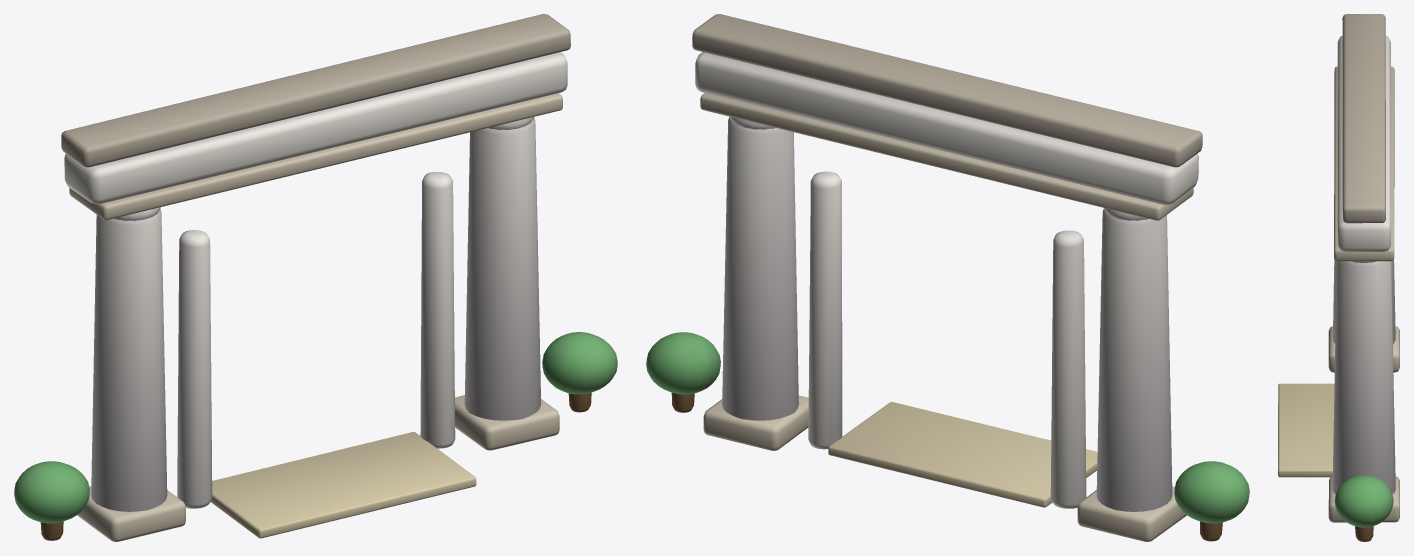
3 renders of one model, left to right at view 1: azimuth 30°, elevation 25°; view 2: azimuth 150°, elevation 25°; view 3: azimuth 270°, elevation 25°, orthographic. The views are drawn at different scales.
Visible parts, largest first — view 1: gate_f7b77763; view 2: gate_f7b77763; view 3: gate_f7b77763.
Part boxes in pixels (bbox=[...]): gate_f7b77763: bbox=[14, 14, 617, 541]; gate_f7b77763: bbox=[646, 14, 1249, 541]; gate_f7b77763: bbox=[1278, 14, 1399, 541].
Bounding box in the file's own units: 6.56 × 4.17 × 1.41.
